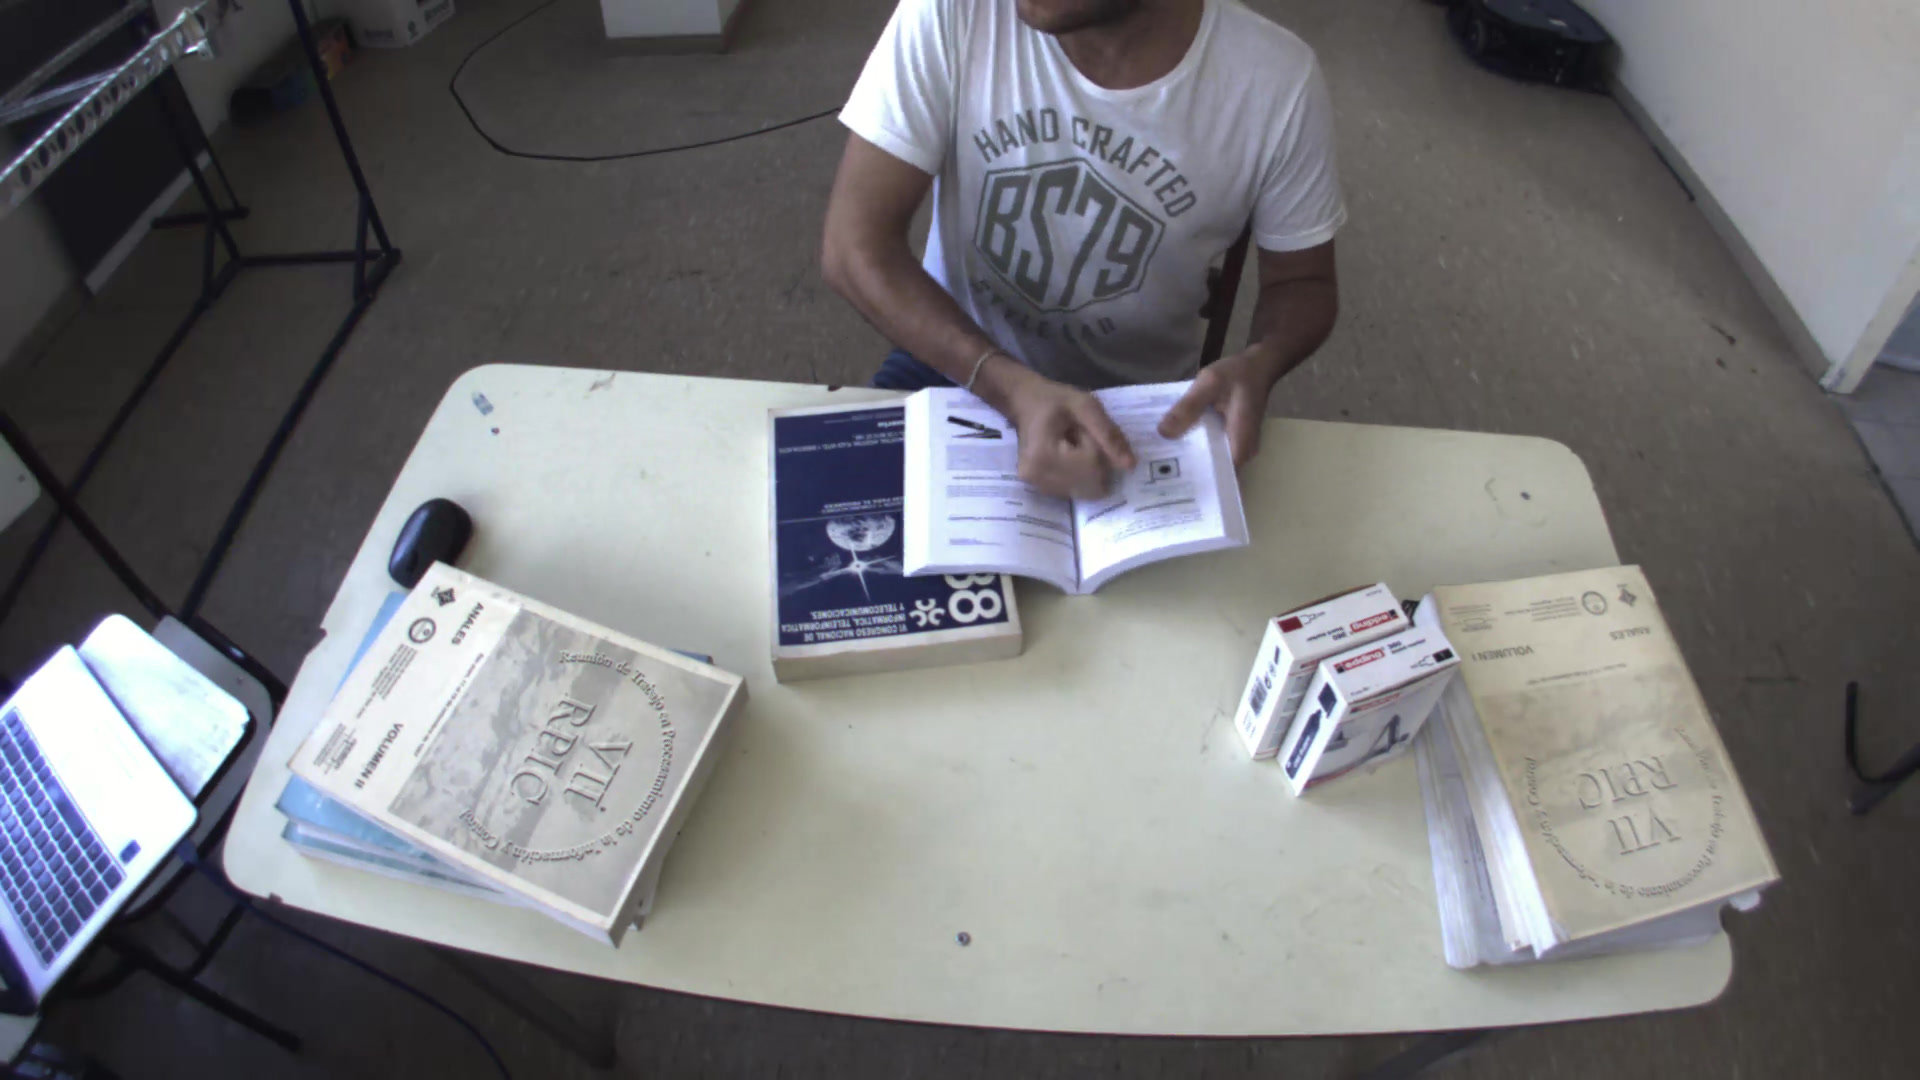hand: (996, 365, 1146, 504), (1158, 342, 1284, 460)
